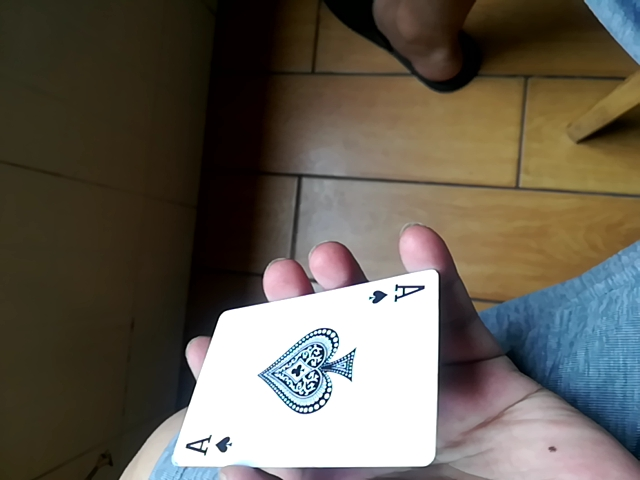ht a: (173, 261, 440, 473)
